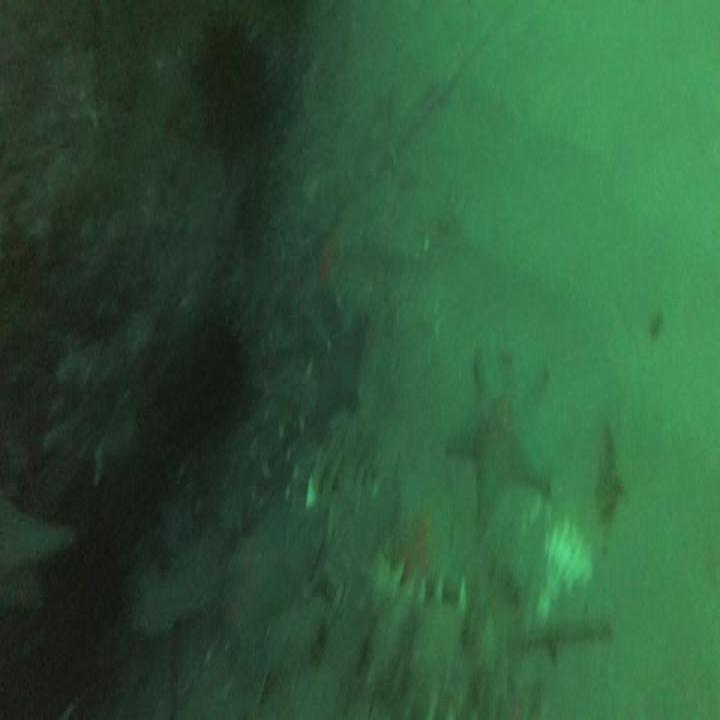echinus: (200, 37, 272, 155), (167, 325, 241, 439)
holothurian: (368, 554, 533, 720), (221, 361, 316, 537), (318, 460, 399, 596)
scallop: (536, 506, 602, 626)
starfish: (454, 336, 552, 505), (310, 315, 364, 434)
